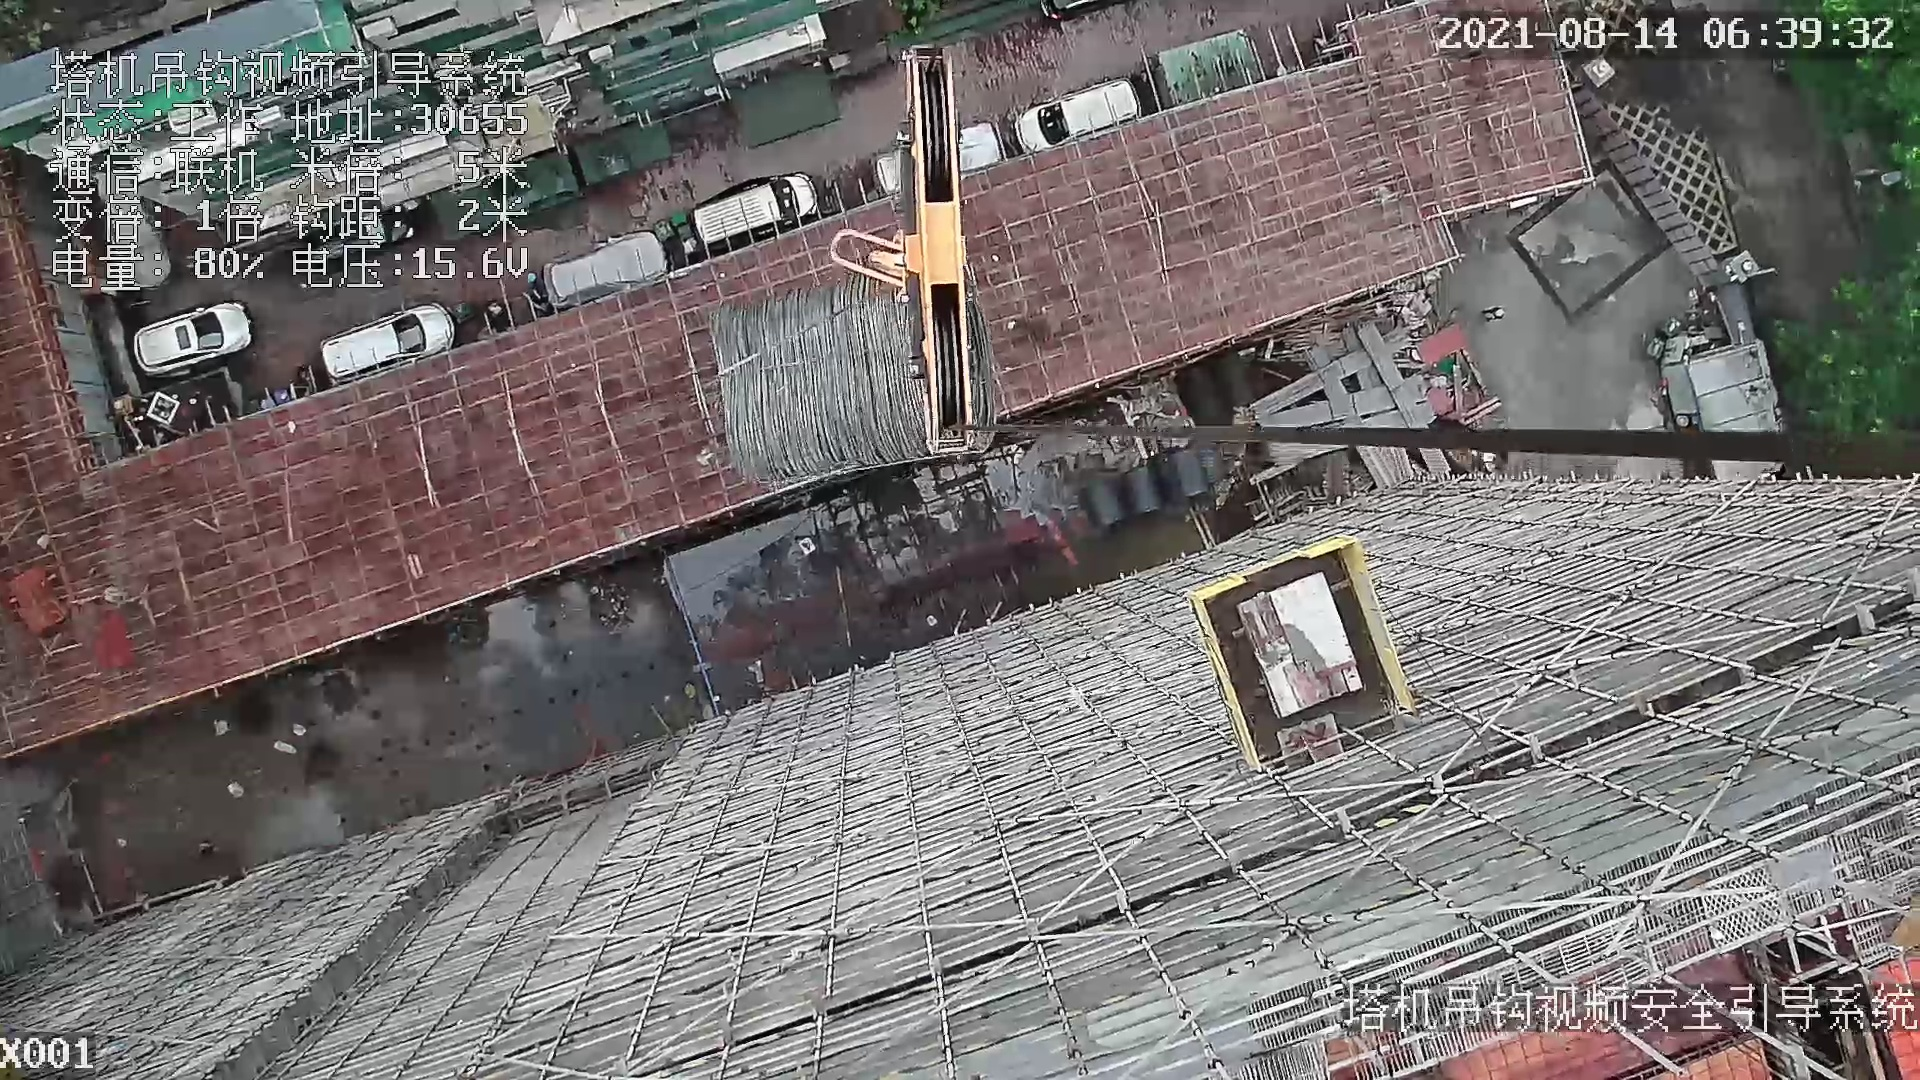hook: (825, 46, 992, 456)
